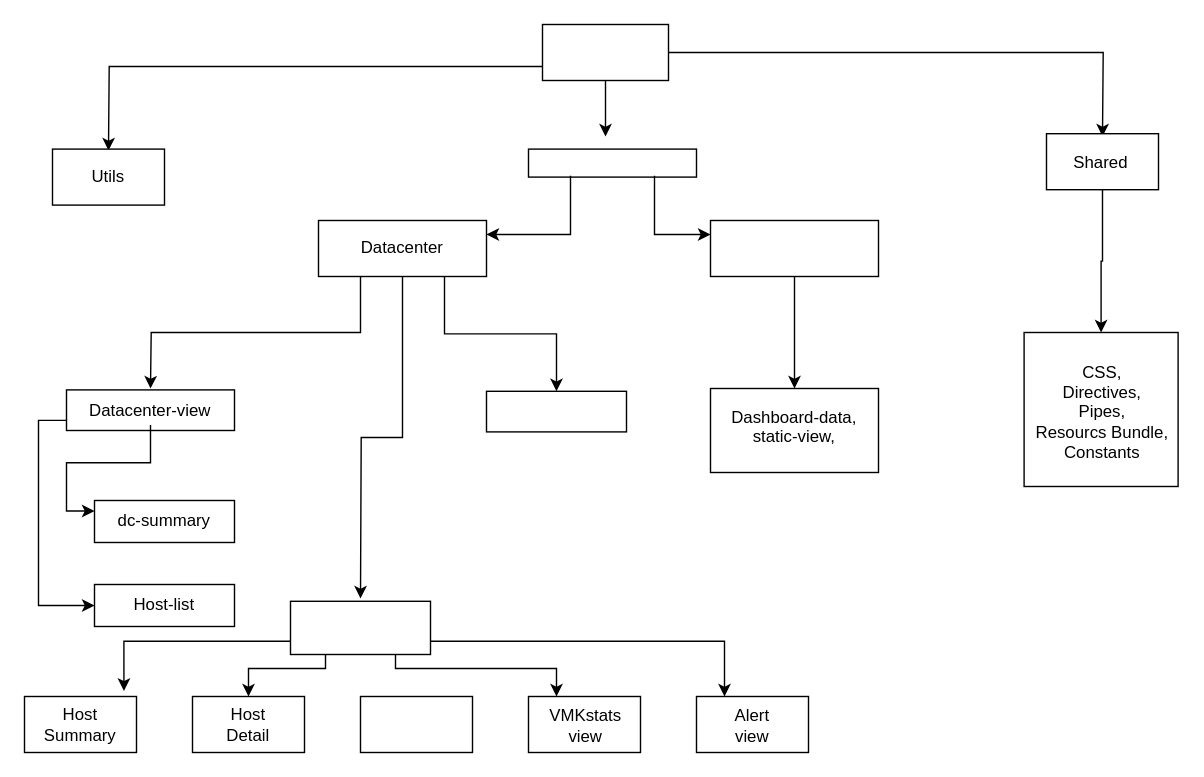
Image size: 1204x777. Some labels were removed from this diagram. The centre of each missing label's shape, as x and y in pixels:
"APP" belongs at point 604,51.
"App Component" belongs at point 611,162.
"host-view" belongs at point 359,627.
"Services" belongs at point 793,247.
"Static-view" belongs at point 555,411.
"Topological view" belongs at point 415,723.
